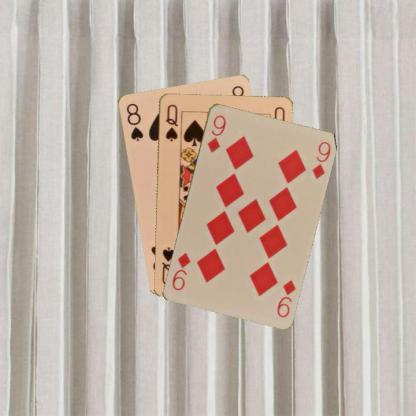8s: (123, 101, 145, 142)
9d: (204, 112, 227, 154), (274, 277, 297, 318)
Qs: (162, 101, 179, 143)
